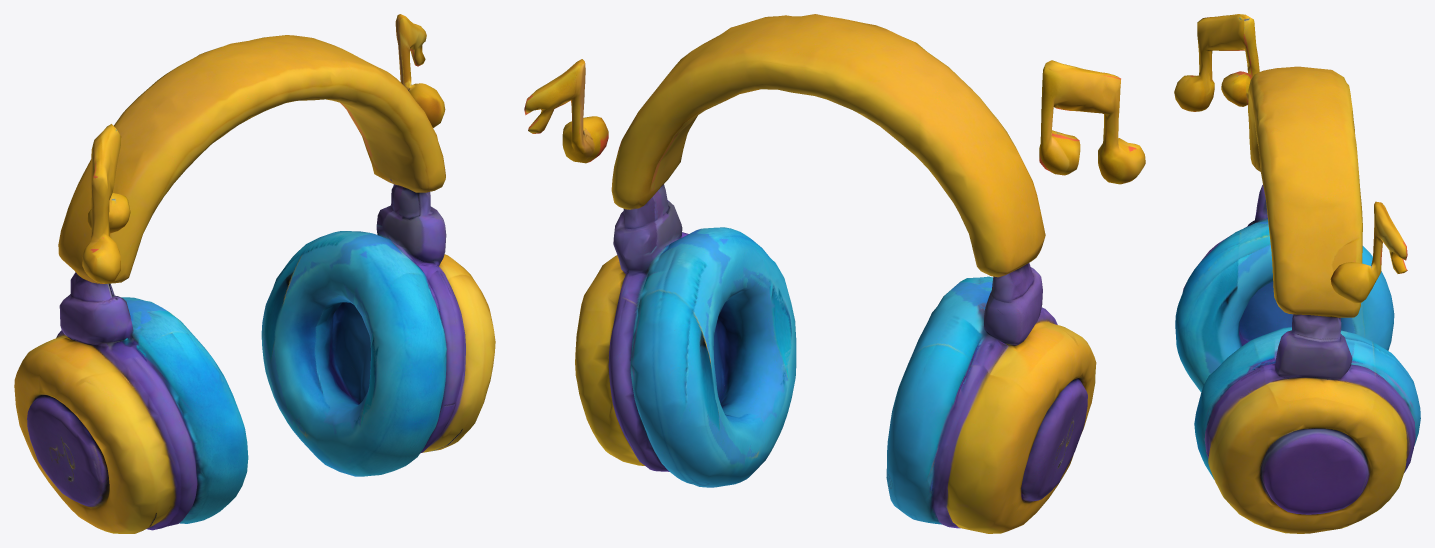
The model's file is Samario.fbx.
The picture shows the model from 3 angles, left to right: view 1: azimuth 30°, elevation 25°; view 2: azimuth 150°, elevation 25°; view 3: azimuth 270°, elevation 25°; orthographic projection. The views are drawn at different scales.
Visible parts, largest first — view 1: Mesh_0.026; view 2: Mesh_0.026; view 3: Mesh_0.026.
Part boxes in pixels (x1,y1,x2,y2): Mesh_0.026: (14,14,495,533); Mesh_0.026: (524,14,1145,533); Mesh_0.026: (1174,14,1420,533).
Bounding box in the file's own units: 74.05 × 140 × 129.
Materials: 1 (1 with a texture image).
